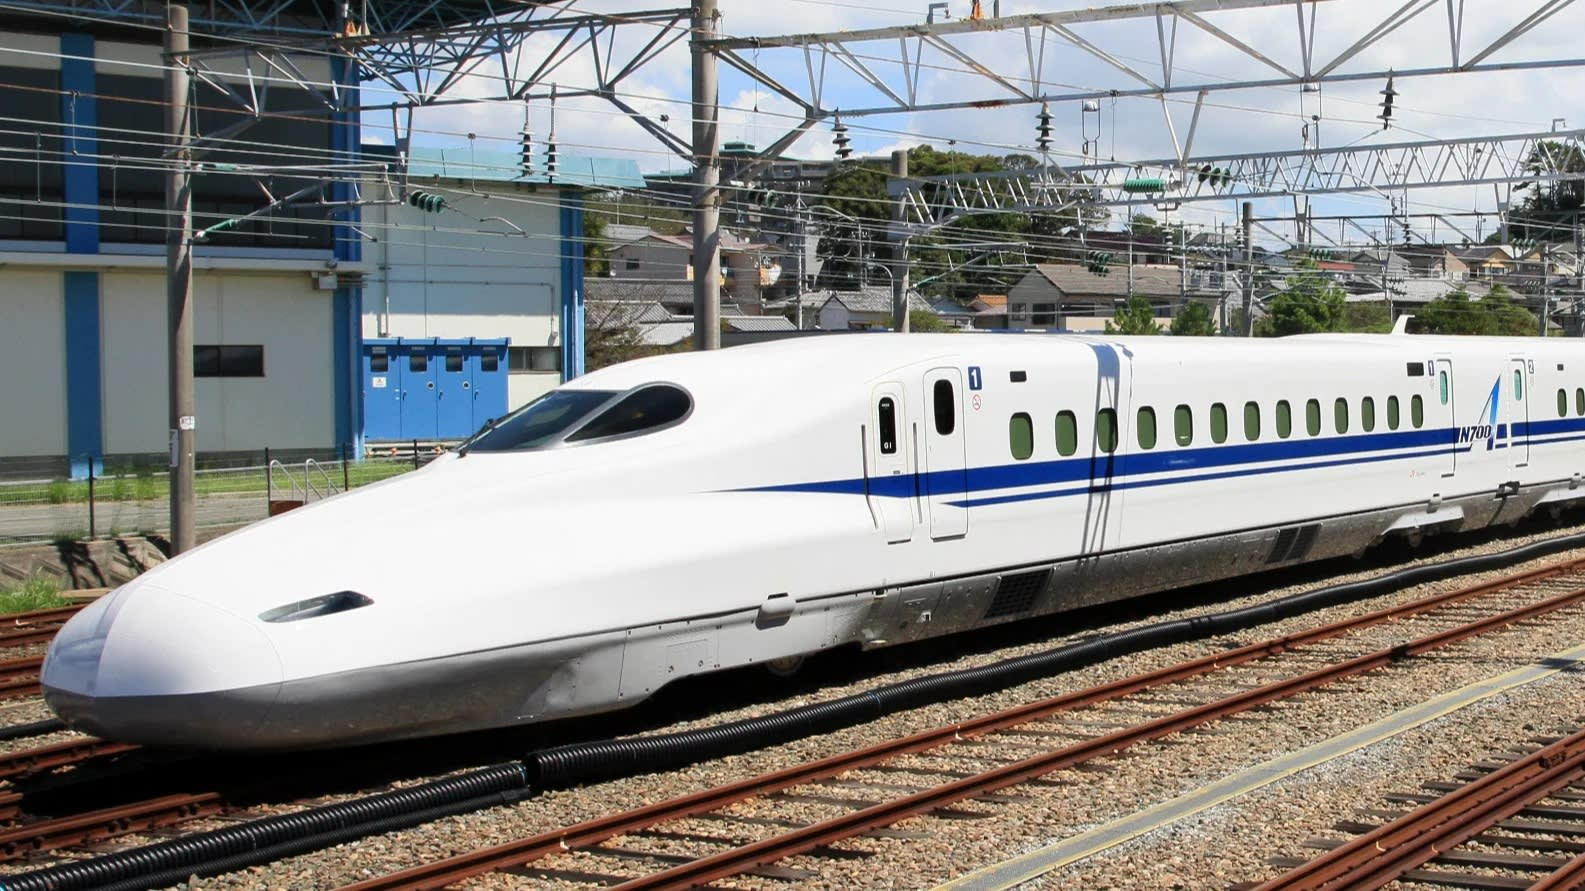train: (75, 335, 1575, 778)
